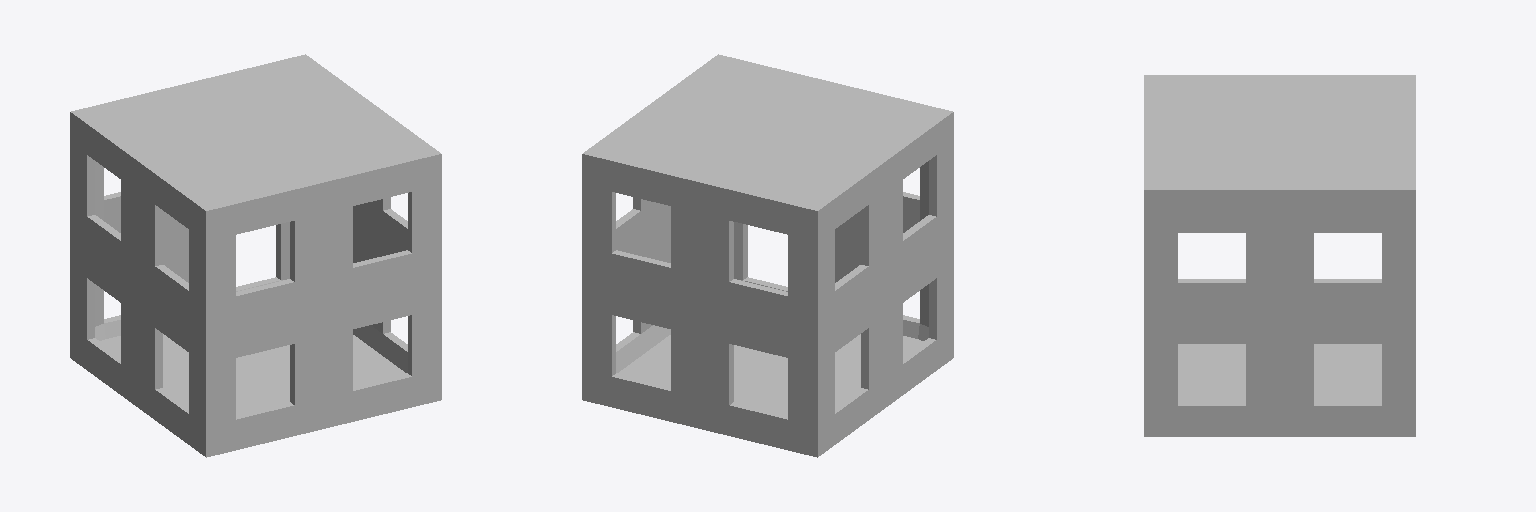
The model's file is StageEdit0111.obj.
The picture shows the model from 3 angles: view 1: azimuth 30°, elevation 25°; view 2: azimuth 150°, elevation 25°; view 3: azimuth 270°, elevation 25°; orthographic projection.
Parts seen in each view (by area): view 1: 立方体_立方体.002; view 2: 立方体_立方体.002; view 3: 立方体_立方体.002.
Part boxes in pixels (x1,y1,x2,y2): 立方体_立方体.002: (70, 54, 441, 457); 立方体_立方体.002: (582, 54, 953, 457); 立方体_立方体.002: (1144, 75, 1415, 436).
Bounding box in the file's own units: 60 × 60 × 60.